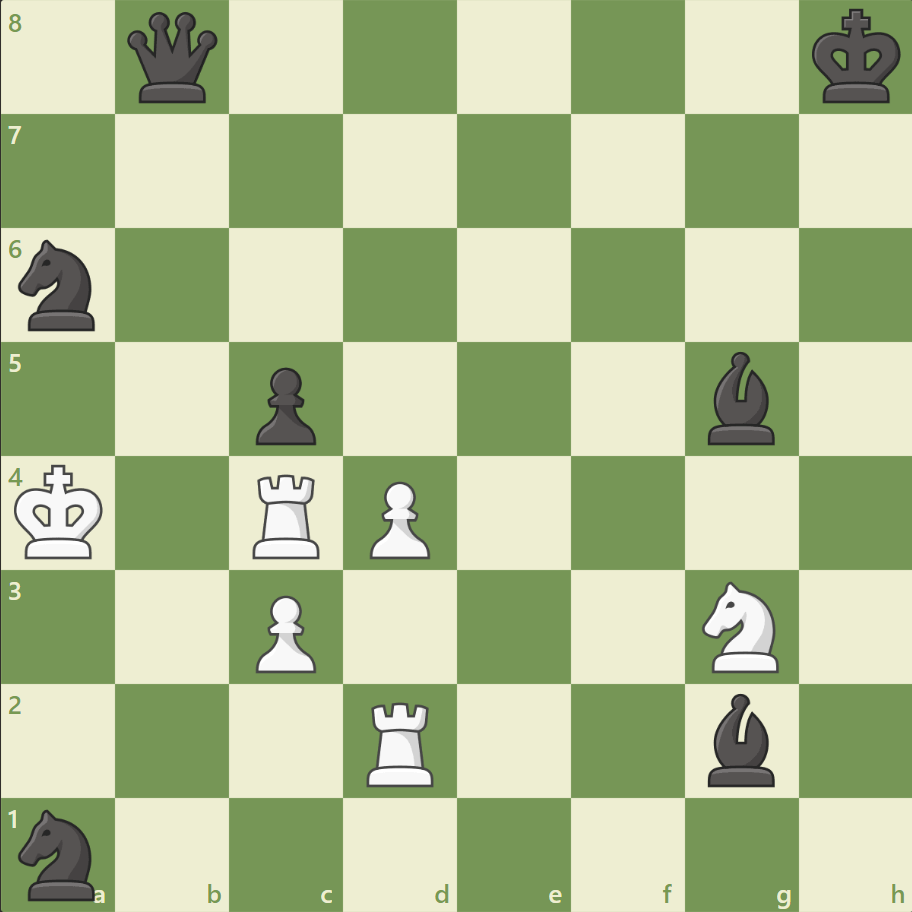K: (11, 458, 111, 566)
N: (692, 575, 789, 677)
P: (247, 586, 322, 677), (361, 473, 435, 564)
R: (246, 466, 329, 563), (360, 693, 442, 790)
b: (698, 687, 782, 790), (698, 347, 782, 449)
k: (806, 4, 906, 112)
n: (11, 234, 108, 337), (11, 802, 108, 904)
p: (247, 359, 322, 450)
q: (124, 9, 223, 108)
